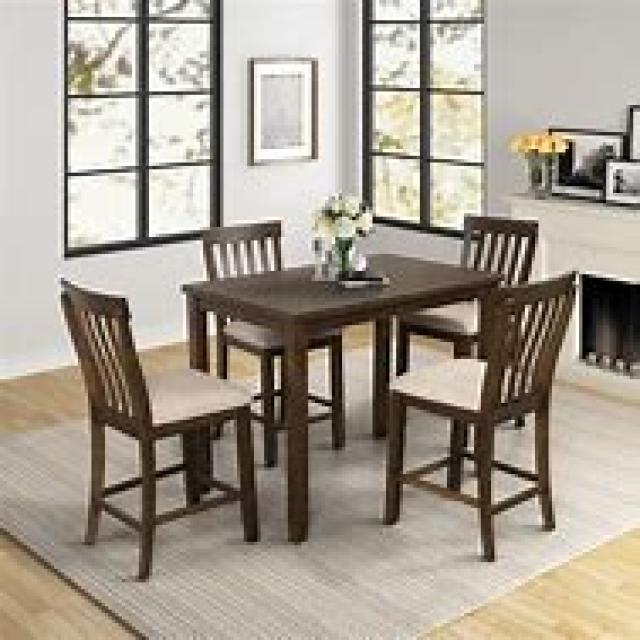chair: (58, 274, 258, 579), (382, 267, 576, 558), (200, 217, 345, 464), (393, 210, 538, 433)
table: (180, 250, 501, 542)
